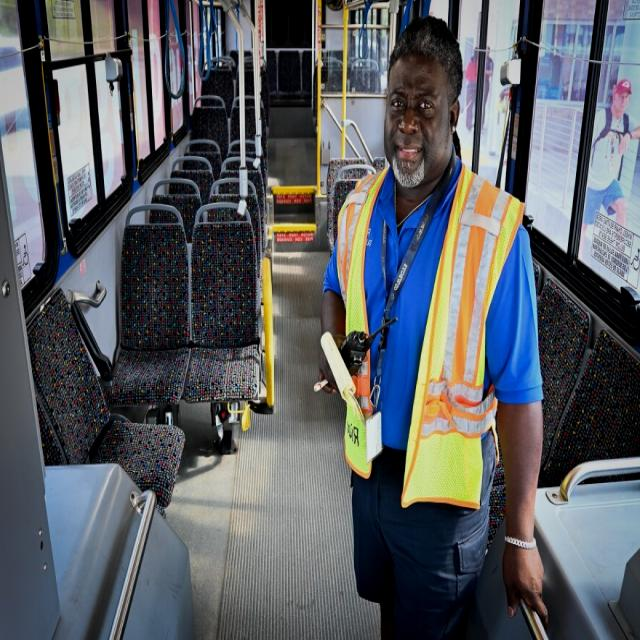asiento-libre: (29, 288, 186, 511), (491, 285, 587, 560), (104, 206, 189, 410), (185, 198, 262, 405), (549, 328, 640, 488), (161, 154, 215, 235), (213, 164, 263, 242), (326, 158, 370, 245), (188, 98, 228, 171), (199, 63, 235, 125), (228, 99, 264, 160), (237, 57, 264, 132), (278, 49, 301, 99), (351, 59, 381, 95), (322, 61, 348, 94), (260, 50, 277, 98), (259, 63, 270, 130), (301, 49, 313, 98), (237, 52, 255, 84)
